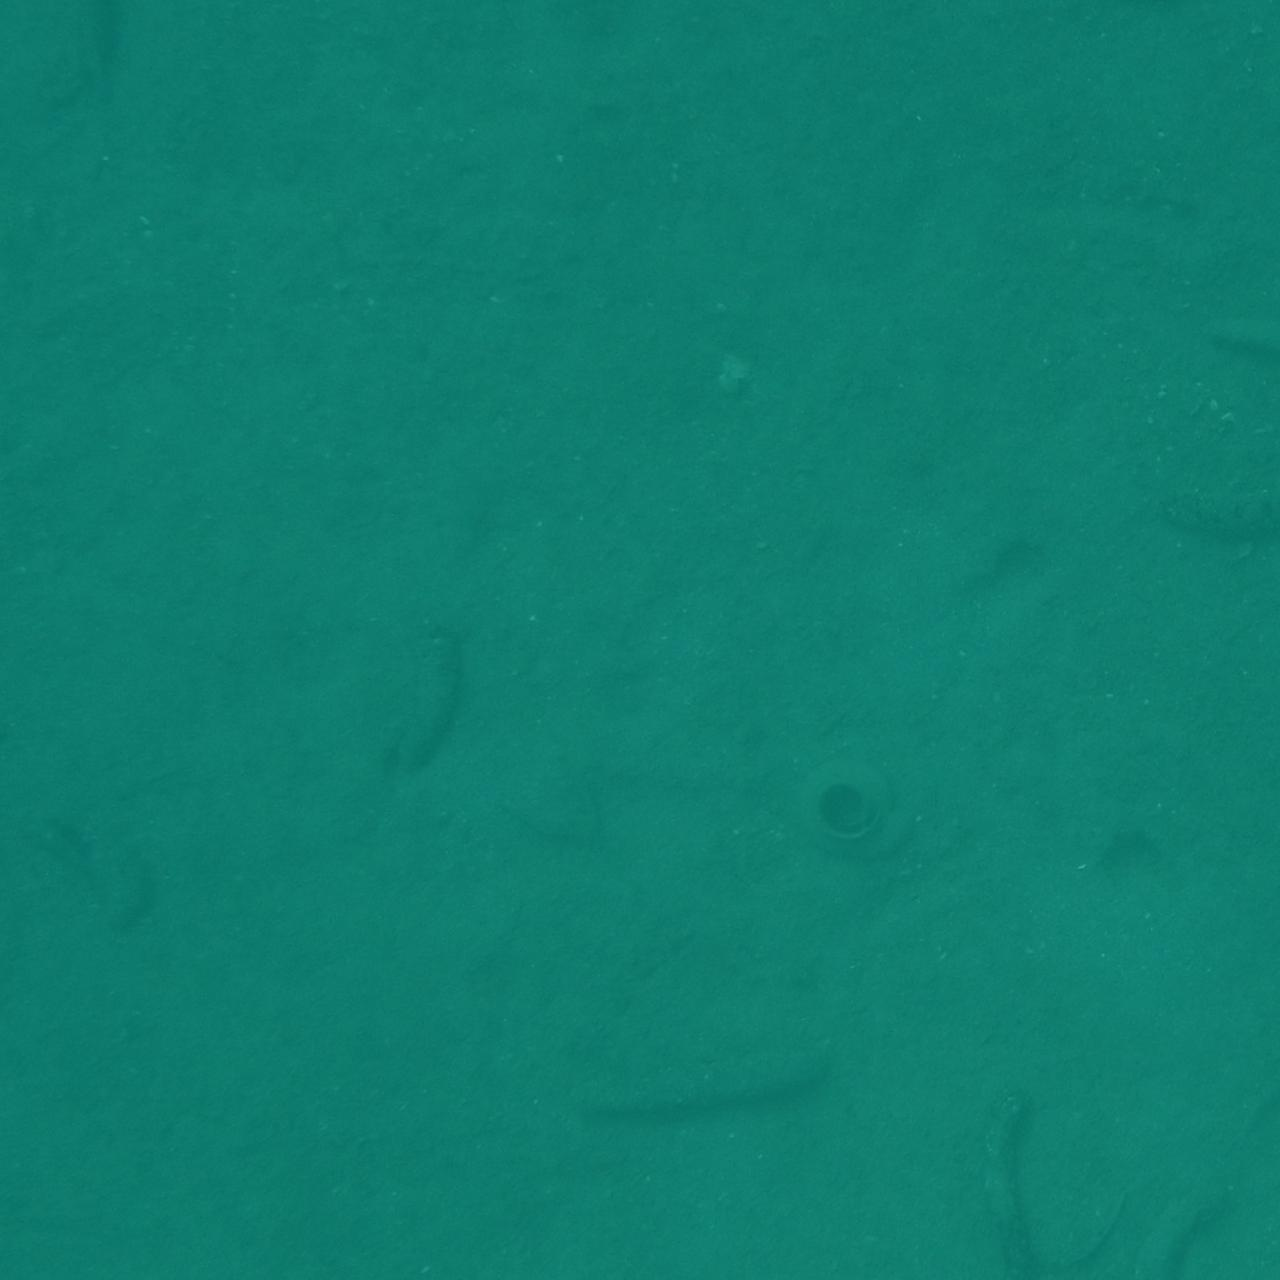Holothuria tubulosa: (542, 1040, 849, 1141), (1136, 279, 1280, 436), (1090, 435, 1280, 551), (1098, 1150, 1264, 1280), (511, 0, 765, 83), (0, 374, 102, 580), (1102, 1098, 1214, 1280), (384, 605, 493, 790), (0, 693, 105, 884), (19, 0, 141, 158), (0, 229, 125, 379), (1119, 123, 1280, 239), (0, 1125, 116, 1275), (1191, 584, 1280, 778), (937, 0, 1058, 138), (1182, 1082, 1280, 1248), (974, 1090, 1058, 1280), (470, 1150, 588, 1280), (1023, 0, 1245, 66), (622, 1234, 900, 1280), (0, 0, 147, 83), (1171, 141, 1280, 234), (1205, 847, 1280, 980), (1194, 0, 1280, 115), (0, 1223, 139, 1280), (1205, 0, 1280, 105), (0, 0, 179, 41), (1203, 0, 1280, 86), (1160, 1251, 1280, 1280), (1157, 1255, 1280, 1280)
